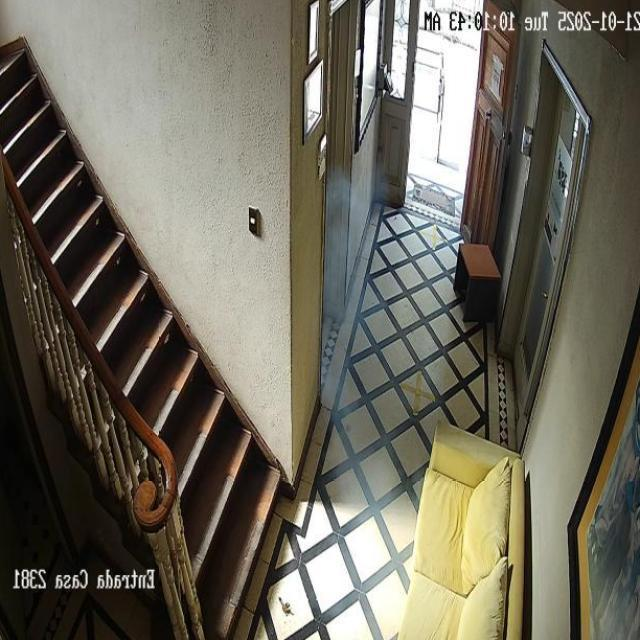fire: (324, 153, 438, 640)
